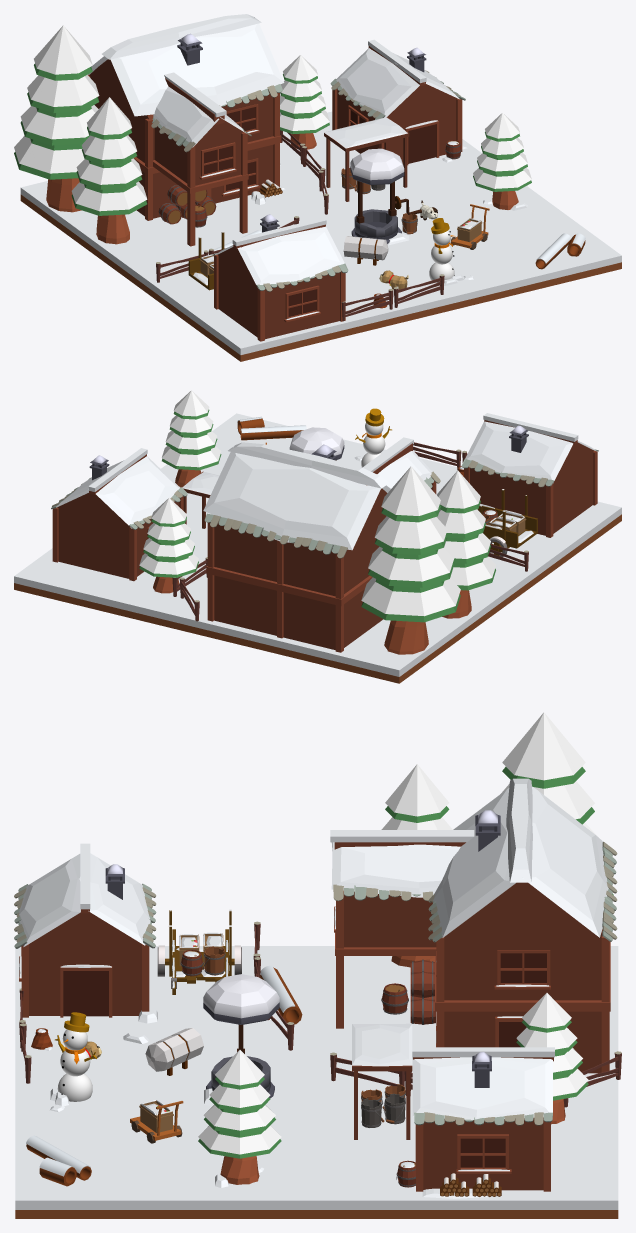
3 views of the same model, one above another, from view 1: azimuth 30°, elevation 25°; view 2: azimuth 150°, elevation 25°; view 3: azimuth 270°, elevation 25° (orthographic). The views are drawn at different scales.
Parts seen in each view (by area): view 1: box.001, box.356, box.050, box, box.153, box.006, box.260, box.265, box.357, box.008, box.353, cone.007 (+39 smaller); view 2: box.001, box.006, box.355, box.050, box, box.265, box.152, box.260, cone.004, box.357, cone.003, cone.007 (+34 smaller); view 3: box.001, box.006, box.259, box.355, box.050, box.265, box.356, box, box.354, box.007, box.008, box.153 (+28 smaller).
Boxes of the visible parts, box(x1,y1,x2,y2) form: box.001: box(20, 111, 621, 354); box.356: box(111, 23, 284, 116); box.050: box(218, 256, 339, 339); box: box(20, 194, 621, 361); box.153: box(237, 226, 344, 288); box.006: box(90, 77, 273, 218); box.260: box(336, 48, 419, 117); box.265: box(337, 88, 456, 164); box.357: box(102, 14, 261, 59); box.008: box(154, 126, 240, 185); box.353: box(153, 86, 219, 147); cone.007: box(34, 25, 92, 74); box.001: box(14, 413, 621, 676); box.006: box(214, 517, 385, 649); box.355: box(203, 446, 380, 550); box.050: box(470, 451, 593, 535); box: box(14, 514, 621, 683); box.265: box(58, 501, 178, 578); box.152: box(465, 421, 573, 480); box.260: box(96, 456, 180, 528); cone.004: box(361, 577, 460, 616); box.357: box(228, 442, 389, 488); cone.003: box(368, 546, 454, 581); cone.007: box(381, 466, 440, 515); box.001: box(15, 946, 618, 1209); box.006: box(444, 936, 601, 1073); box.259: box(412, 1057, 552, 1119); box.355: box(522, 786, 608, 937); box.050: box(29, 943, 141, 1015); box.265: box(423, 1118, 543, 1190); box.356: box(433, 788, 515, 937); box: box(15, 1210, 618, 1218); box.354: box(331, 842, 460, 897); box.007: box(445, 882, 602, 936); box.008: box(344, 892, 436, 947); box.153: box(19, 854, 80, 946).
Size of the model in its own units: 6.45 by 2.88 by 6.05.
